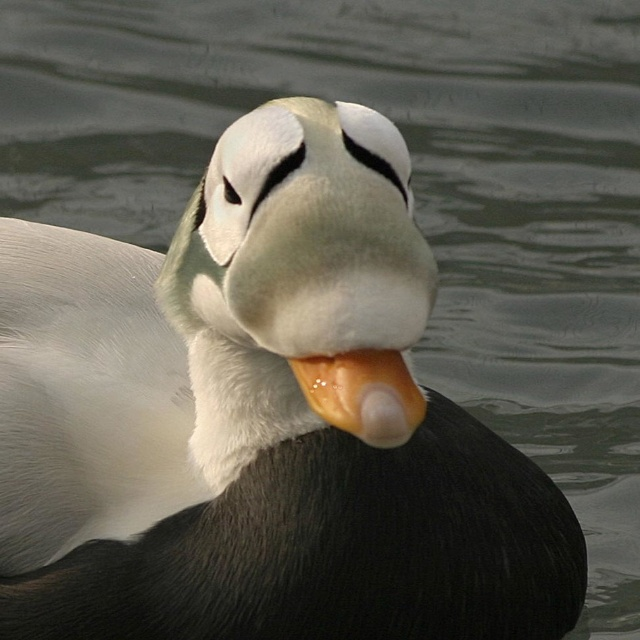Duck: (45, 105, 571, 640)
